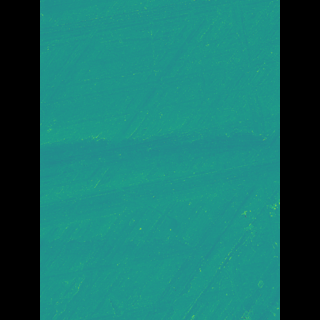Loch: (69, 111, 249, 228), (211, 0, 251, 274), (69, 227, 228, 286)
